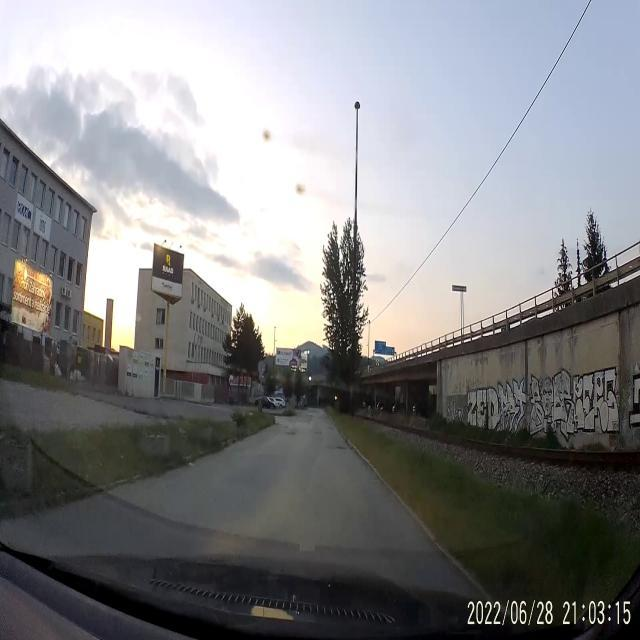Pothole: (322, 444, 350, 450), (284, 430, 298, 435), (312, 431, 326, 434), (328, 426, 336, 429)
